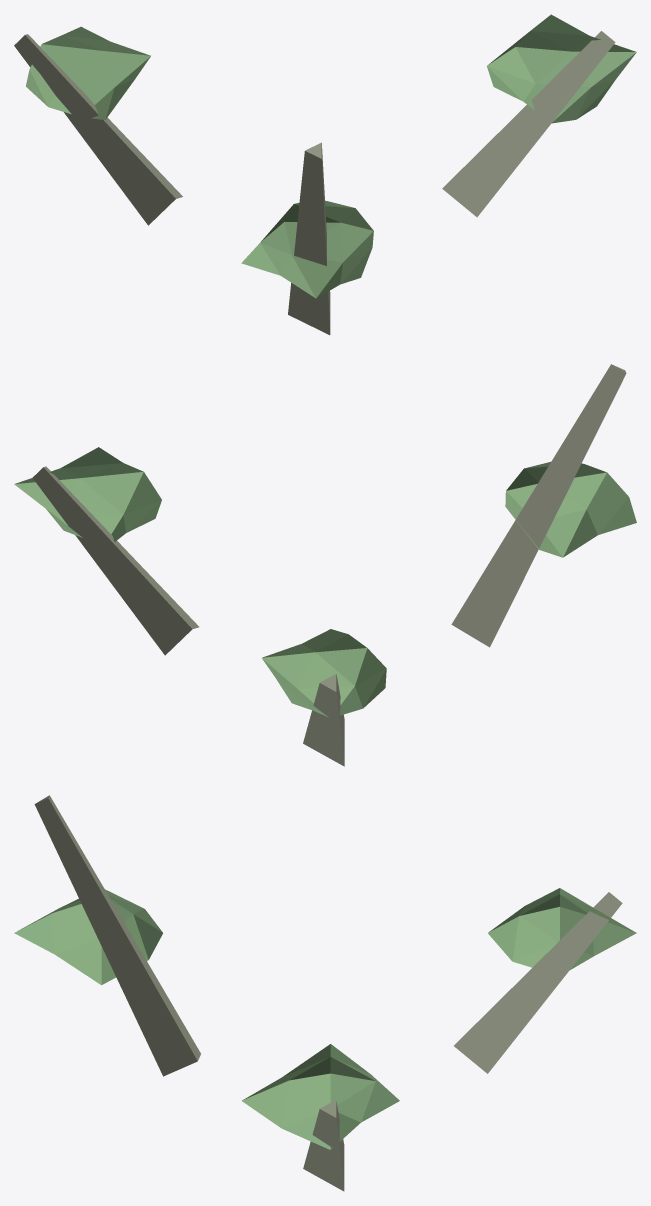
File: bramble_v08.glb
The picture shows the model from 3 angles, top to bottom: view 1: azimuth 30°, elevation 25°; view 2: azimuth 150°, elevation 25°; view 3: azimuth 270°, elevation 25°; orthographic projection. The views are drawn at different scales.
Parts seen in each view (by area): view 1: lod0; view 2: lod0; view 3: lod0.
Part boxes in pixels (x1,y1,x2,y2): lod0: (14, 14, 636, 334); lod0: (14, 364, 636, 766); lod0: (14, 795, 636, 1191).
Size of what is drawn, in the model's own units: 0.5242 by 0.2511 by 0.565.
